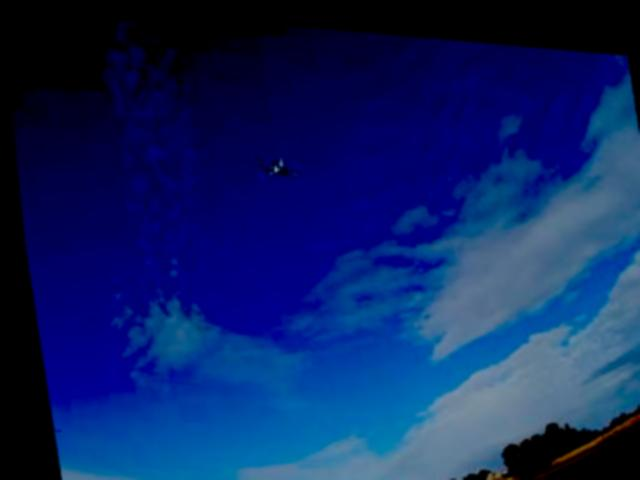uav: (240, 137, 303, 186)
